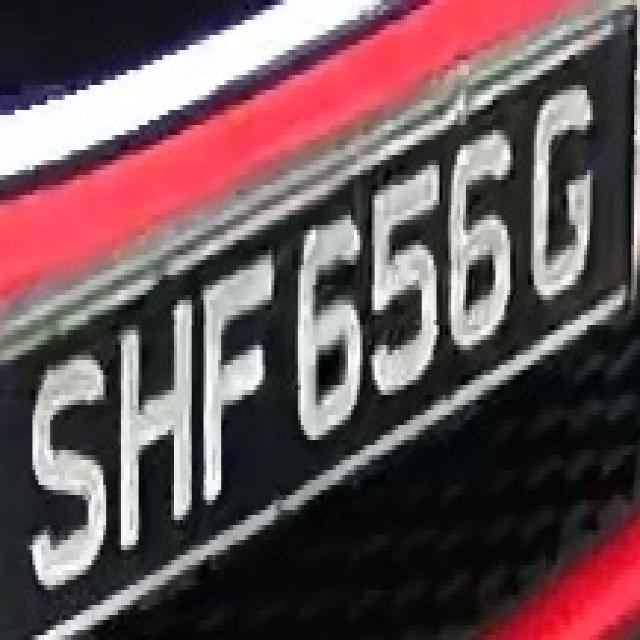5: (363, 145, 442, 415)
6: (298, 200, 369, 445), (448, 110, 508, 375)
F: (203, 250, 274, 505)
G: (525, 70, 599, 325)
H: (106, 290, 204, 555)
S: (24, 335, 115, 600)
